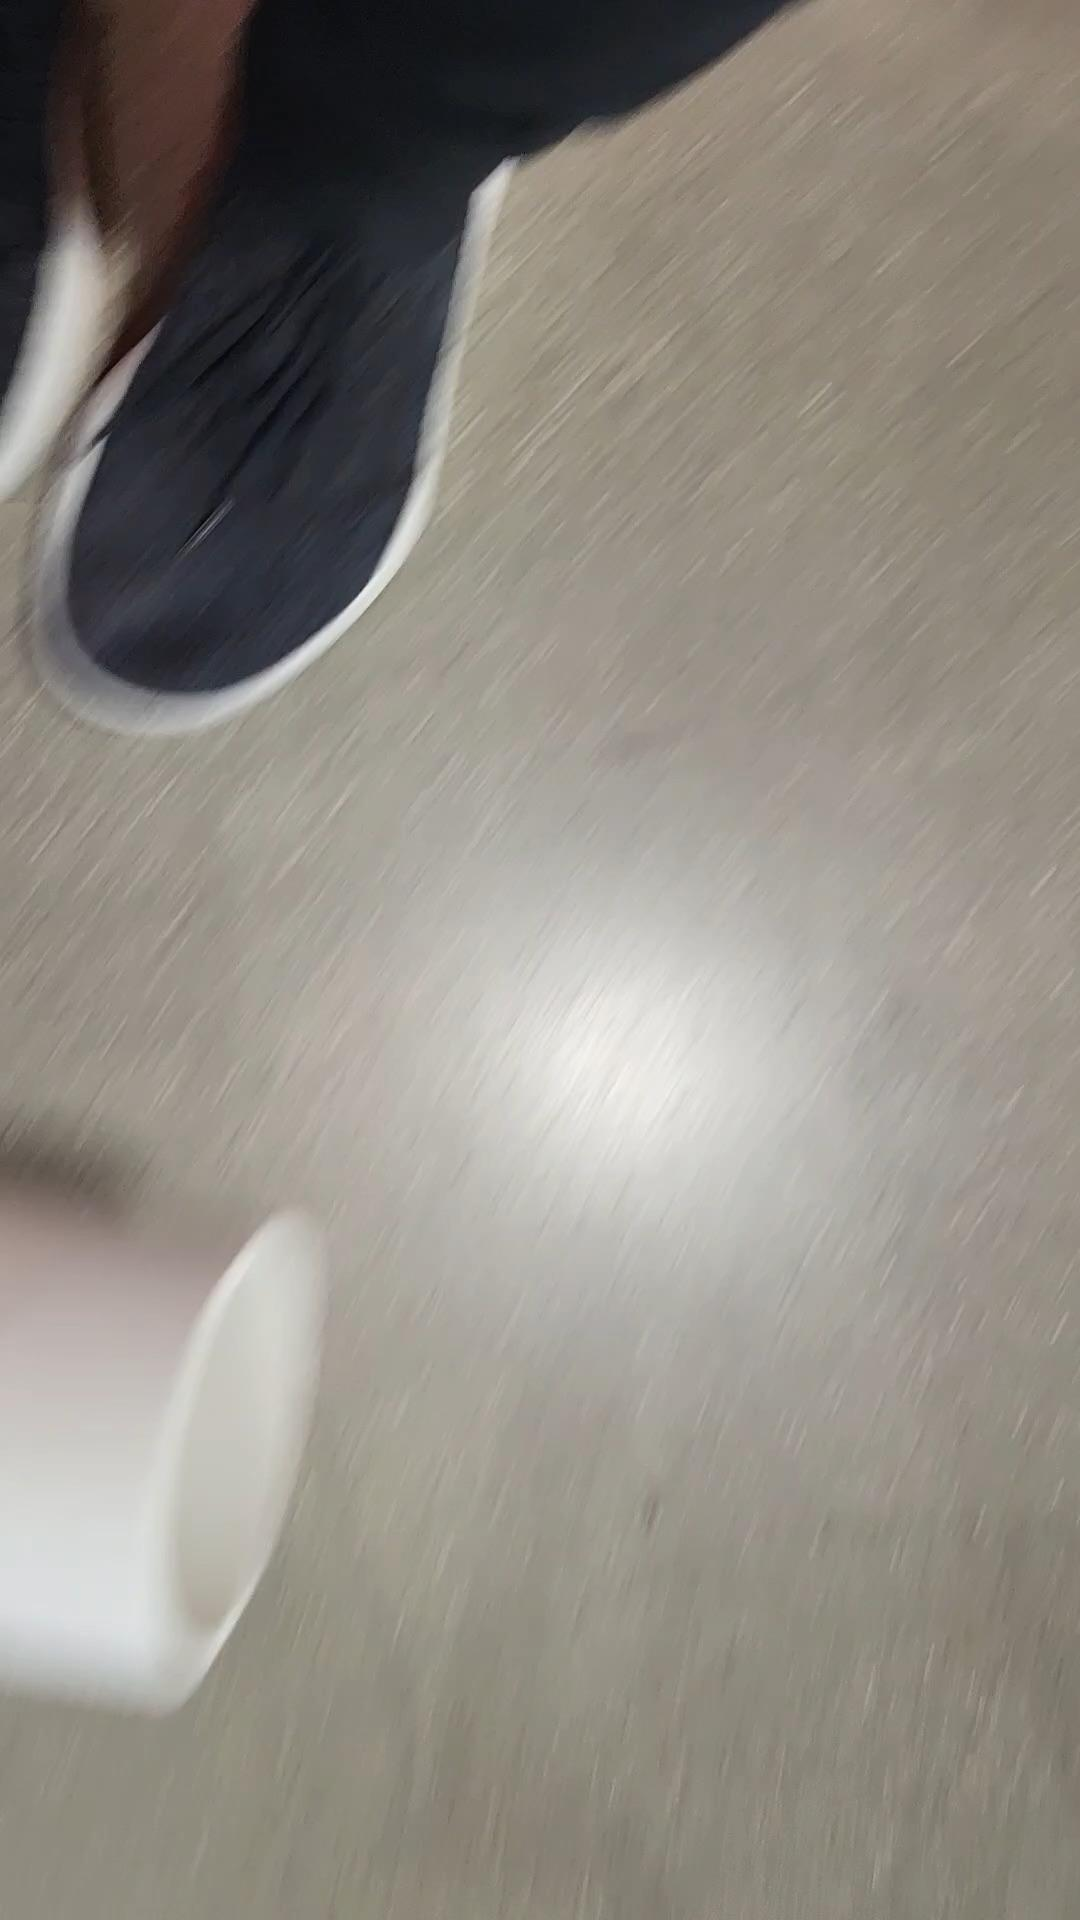coral: (0, 1150, 320, 1722)
